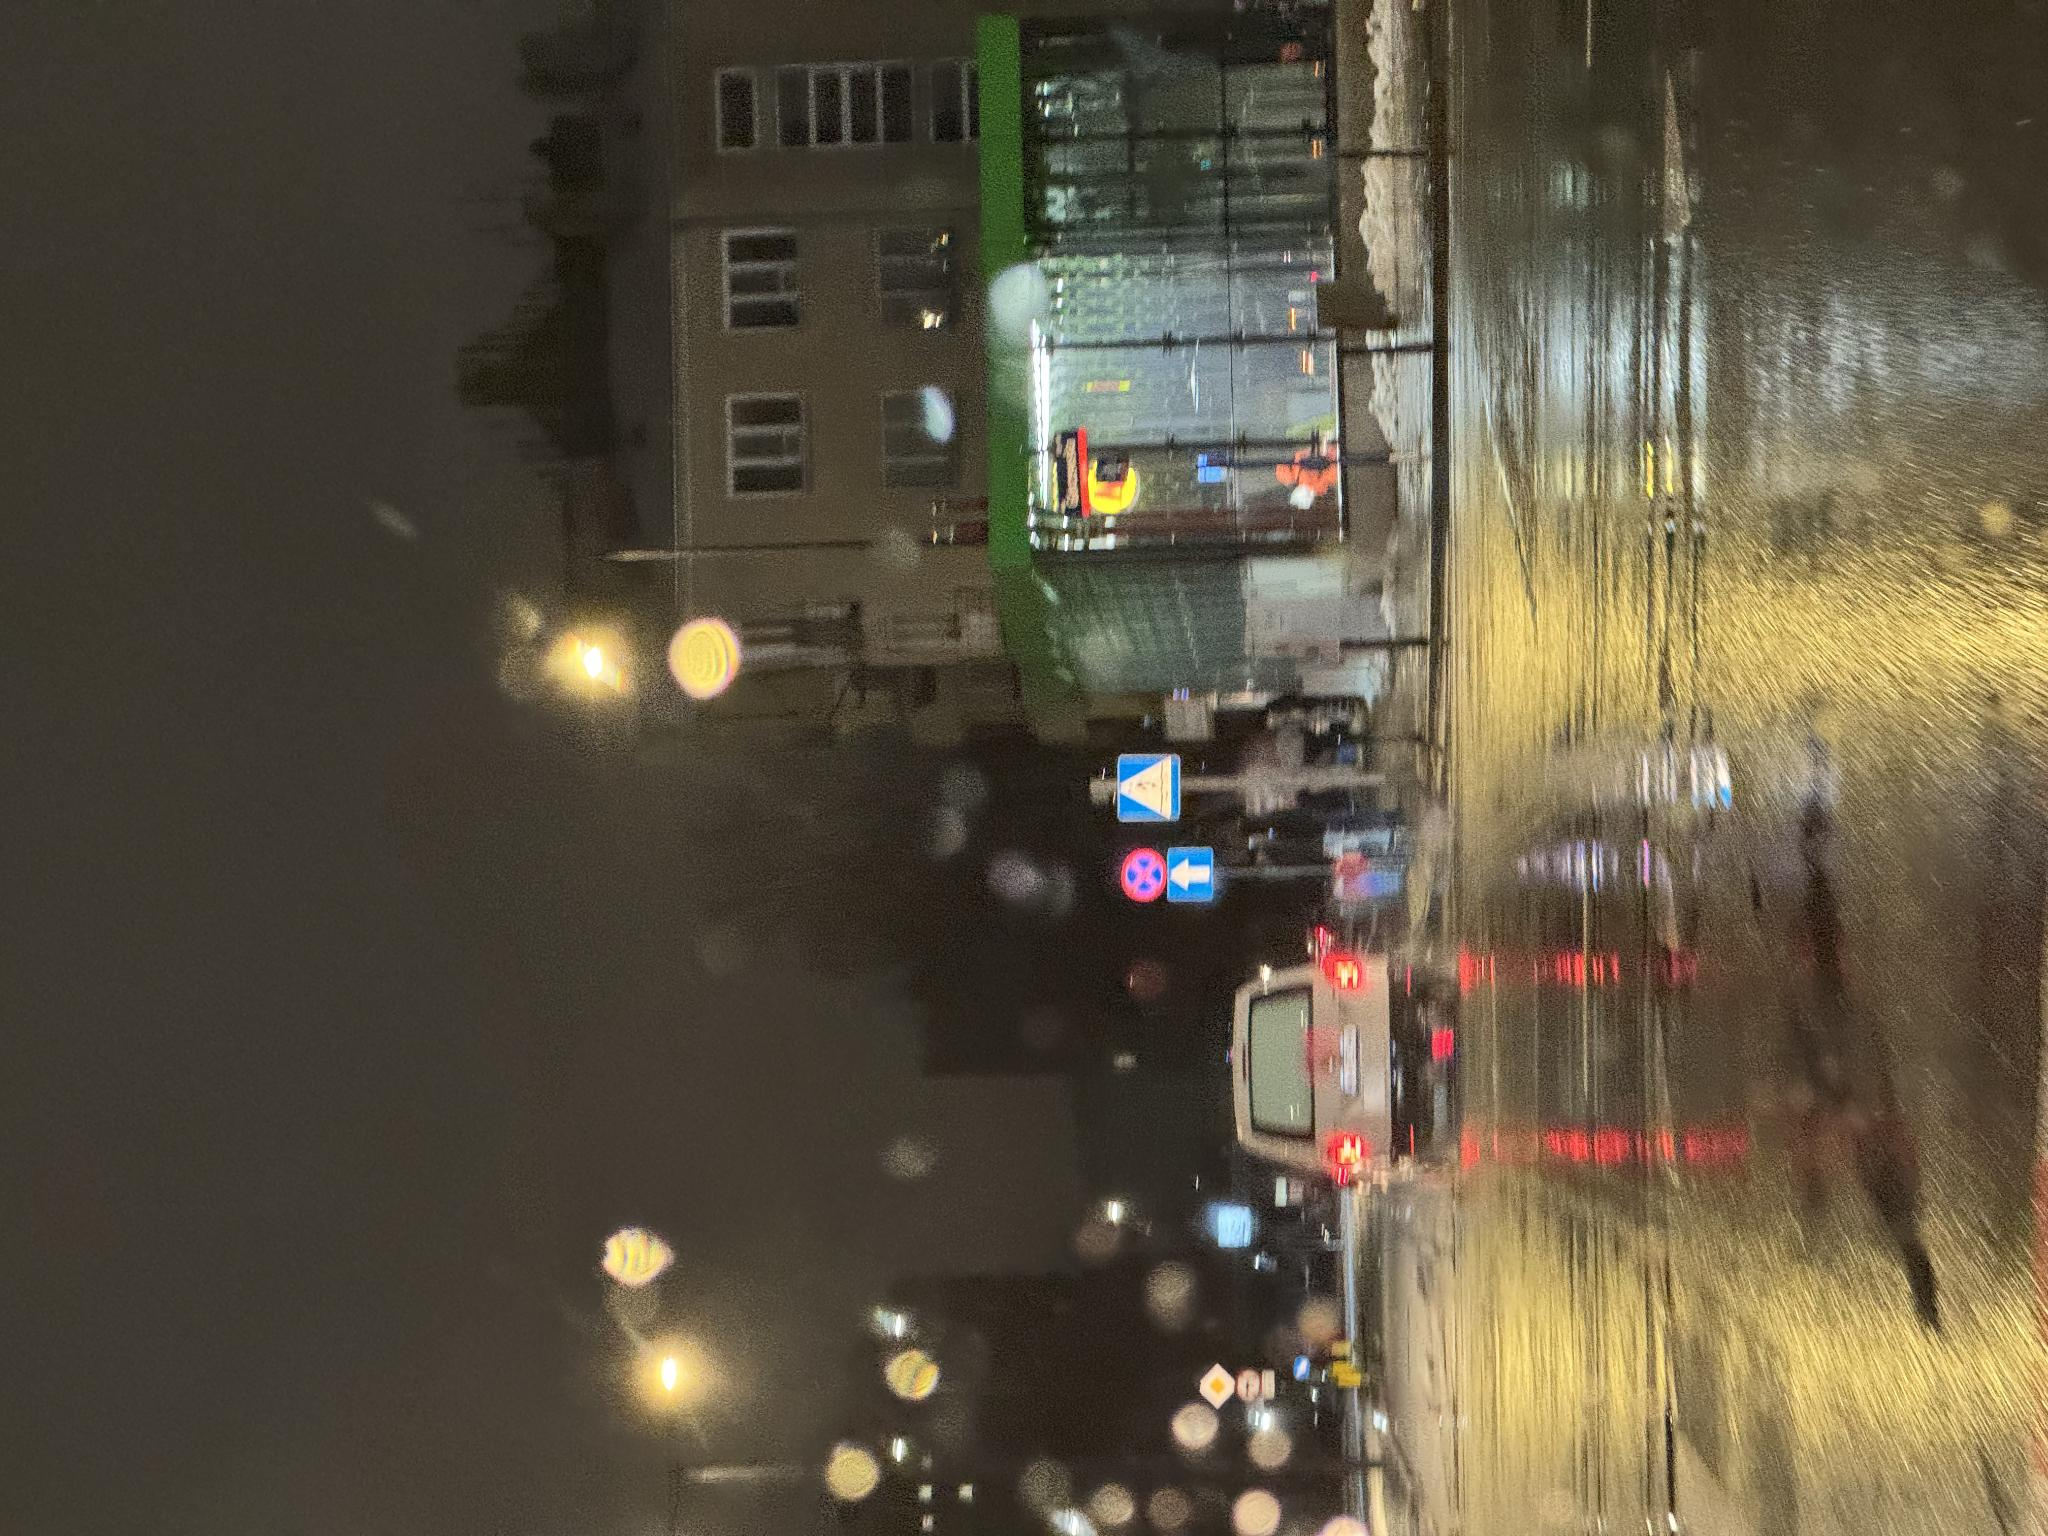information: (713, 1115, 784, 1181), (634, 1167, 689, 1213), (127, 1194, 173, 1236)
prohibitory: (634, 1118, 689, 1167)
